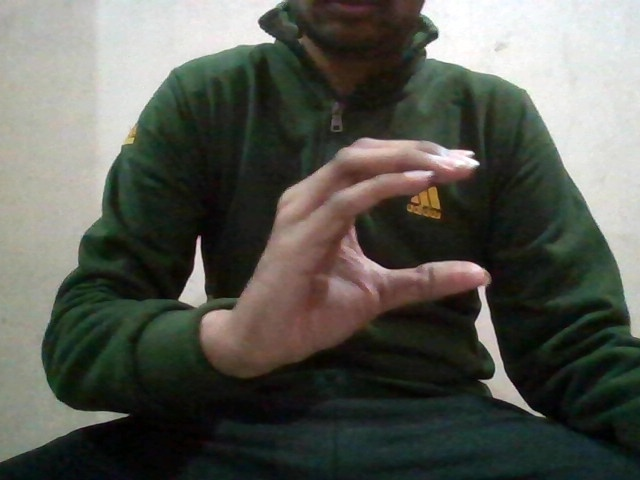C: (233, 133, 491, 375)
